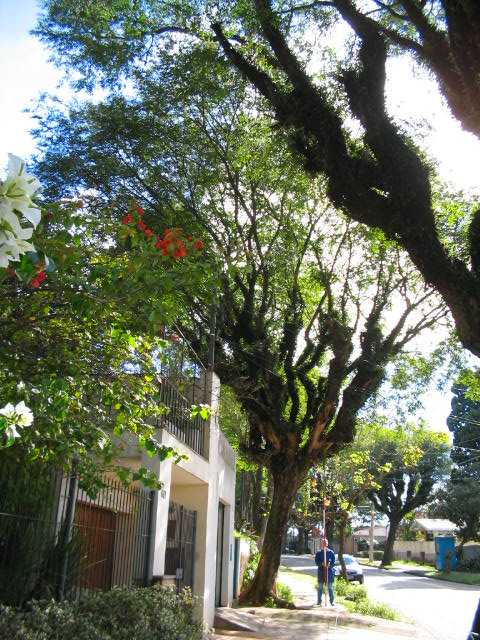crown: (29, 48, 472, 375)
stem: (232, 465, 312, 608)
stick: (318, 488, 330, 604)
tree: (24, 45, 473, 608)
